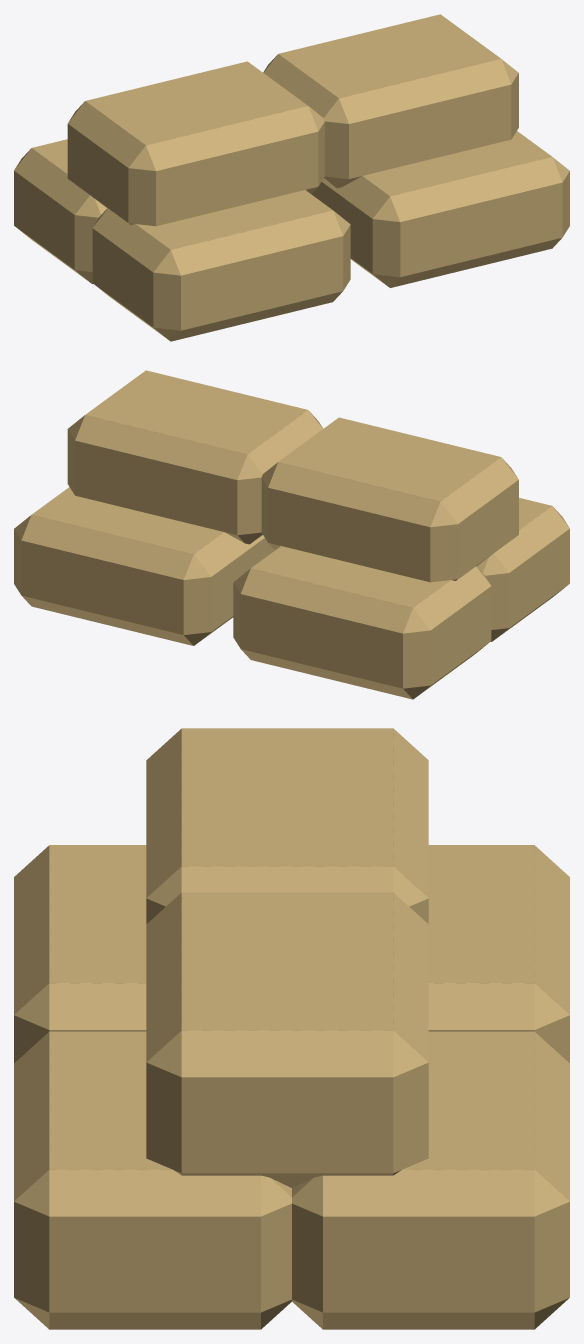
Rendered from prop-sandbag-cell-1x1.glb.
3 views of the same model, one above another, from view 1: azimuth 30°, elevation 25°; view 2: azimuth 150°, elevation 25°; view 3: azimuth 270°, elevation 25° (orthographic). The views are drawn at different scales.
Visible parts, largest first — view 1: prop-sandbag-cell-1x1; view 2: prop-sandbag-cell-1x1; view 3: prop-sandbag-cell-1x1.
Part boxes in pixels (left/top/right/bottom): prop-sandbag-cell-1x1: left=14, top=14, right=569, bottom=341; prop-sandbag-cell-1x1: left=14, top=370, right=569, bottom=699; prop-sandbag-cell-1x1: left=14, top=728, right=569, bottom=1329.
Size of the model in its own units: 0.95 by 0.36 by 0.63.
Materials: 1 (1 with a texture image).
